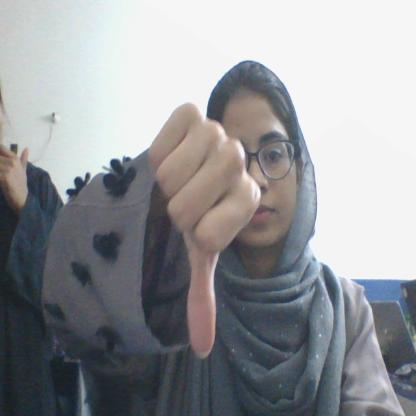thumbs-down: (145, 101, 270, 359)
